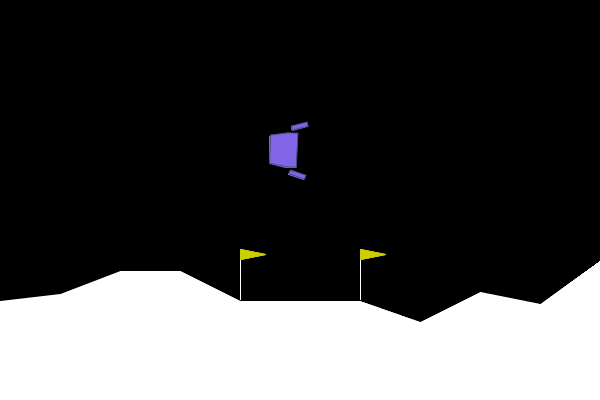lander: (266, 119, 309, 181)
